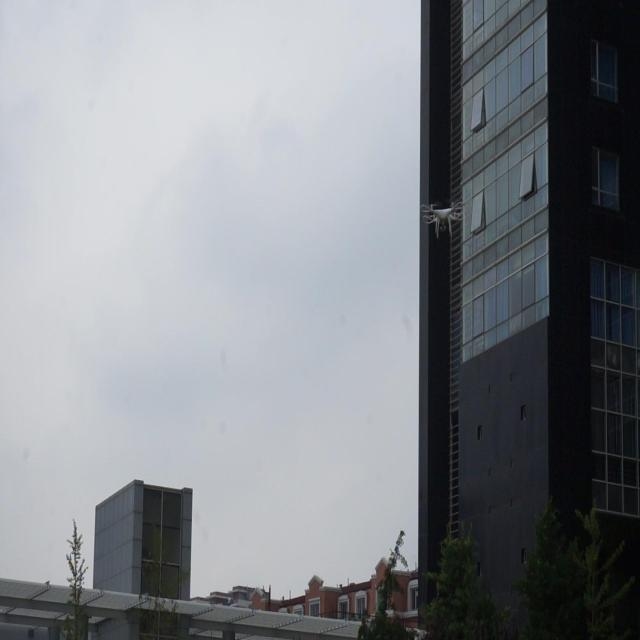drone: (420, 196, 464, 244)
